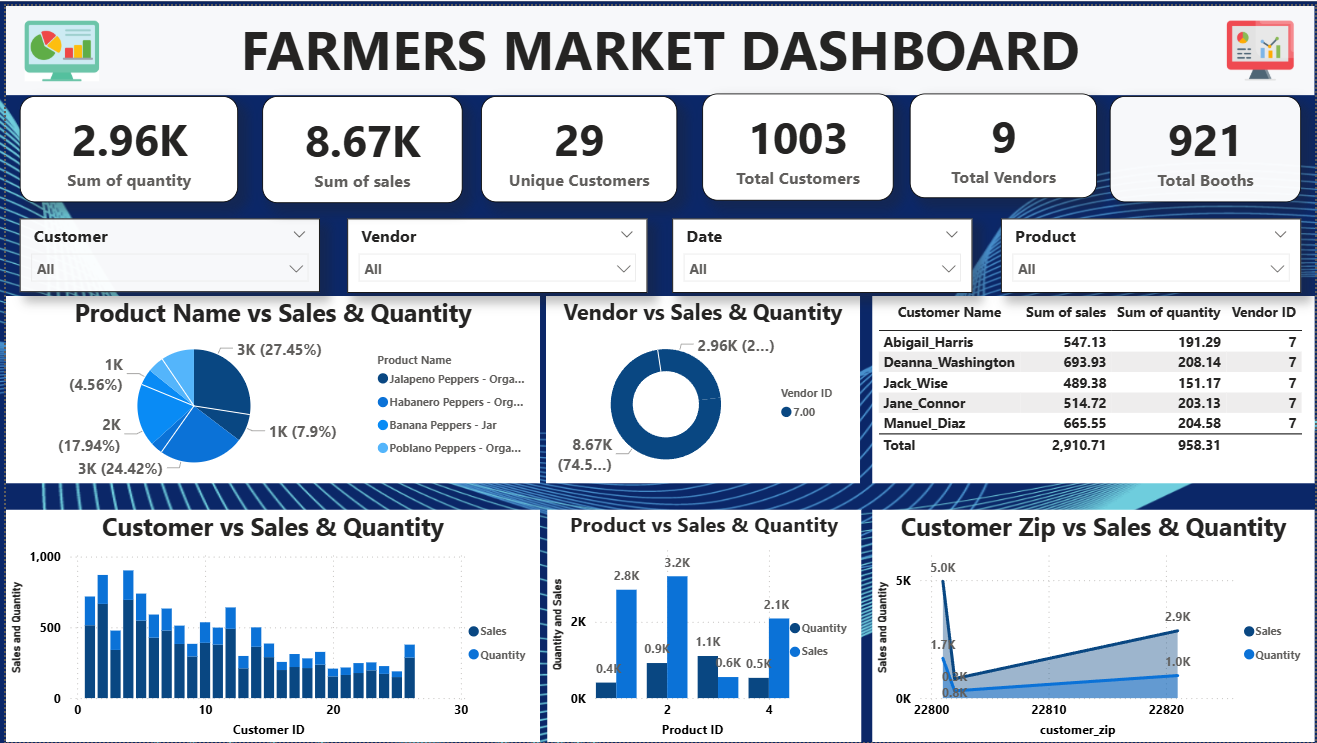

This screenshot's page, from the dashboard's own definition file:
{"tool":"powerbi","page":{"name":"Quantity & Sales Wise Analysis","canvas":[1280,720],"ordinal":0},"visuals":[{"type":"columnChart","title":"Customer vs Sales & Quantity","fields":{"Category":["customer_purchases.customer_id"],"Y":["Sum(customer_purchases.sales)","Sum(customer_purchases.quantity)"]},"box":[0,492.8,522.1,227.4],"z":0},{"type":"clusteredColumnChart","title":"Product vs Sales & Quantity","fields":{"Category":["product.product_id"],"Y":["Sum(customer_purchases.quantity)","Sum(customer_purchases.sales)"]},"box":[529.5,492.8,306.9,227.4],"z":1000},{"type":"pieChart","title":"Product Name vs Sales & Quantity","fields":{"Category":["product.product_name"],"Y":["Sum(customer_purchases.sales)","Sum(customer_purchases.quantity)"]},"box":[0,283.7,522.1,183.4],"z":2000},{"type":"donutChart","title":"Vendor vs Sales & Quantity","fields":{"Y":["Sum(customer_purchases.sales)","Sum(customer_purchases.quantity)"],"Category":["customer_purchases.vendor_id"]},"box":[528.3,283.7,306.9,183.4],"z":3000},{"type":"textbox","box":[0,0,1280.3,87.6],"z":4000},{"type":"image","box":[13.5,0,82.2,87.6],"z":5000},{"type":"image","box":[1187.3,0,79.5,87.6],"z":6000},{"type":"card","fields":{"Values":["Sum(customer_purchases.quantity)"]},"box":[13.5,88,214,103.9],"z":7000},{"type":"card","fields":{"Values":["Count(customer_purchases.customer_id)"]},"box":[464.7,88,192,103.9],"z":8000},{"type":"card","fields":{"Values":["CountNonNull(customer_purchases.quantity)"]},"box":[681.1,85.6,187.1,105.2],"z":9000},{"type":"card","fields":{"Values":["CountNonNull(vendor.vendor_id)"]},"box":[884.1,85.6,183.4,102.7],"z":10000},{"type":"card","fields":{"Values":["CountNonNull(vendor_booth_assignments.booth_number)"]},"box":[1079.8,88,187.1,103.9],"z":11000},{"type":"tableEx","fields":{"Values":["customer.customer_full_name","Sum(customer_purchases.sales)","Sum(customer_purchases.quantity)","vendor.vendor_id"]},"box":[847.4,283.7,432.9,183.4],"z":12000},{"type":"areaChart","title":"Customer Zip vs Sales & Quantity","fields":{"Category":["customer.customer_zip"],"Y":["Sum(customer_purchases.sales)","Sum(customer_purchases.quantity)"]},"box":[847.4,492.8,432.9,227.4],"z":13000},{"type":"slicer","fields":{"Values":["customer_purchases.customer_id"]},"box":[13.5,207.9,293.5,72.1],"z":14000},{"type":"slicer","fields":{"Values":["customer_purchases.product_id"]},"box":[973.3,207.3,293.5,72.7],"z":15000},{"type":"slicer","fields":{"Values":["customer_purchases.market_date"]},"box":[651.6,207.3,293.5,72.7],"z":16000},{"type":"slicer","fields":{"Values":["customer_purchases.vendor_id"]},"box":[333.9,207.3,293.5,72.7],"z":17000},{"type":"card","fields":{"Values":["Sum(customer_purchases.sales)"]},"box":[250.7,88,195.7,105.2],"z":17001}]}

Visuals, with their boxes in screenshot pixels (x1, y1, x2, y2), scaled from the page's 1280x720 canvas onto the 1317x743 screenshot:
"Customer vs Sales & Quantity" columnChart: [0, 509, 537, 742]
"Product vs Sales & Quantity" clusteredColumnChart: [545, 509, 861, 742]
"Product Name vs Sales & Quantity" pieChart: [0, 293, 537, 482]
"Vendor vs Sales & Quantity" donutChart: [544, 293, 859, 482]
textbox: [0, 0, 1316, 90]
image: [14, 0, 98, 90]
image: [1222, 0, 1303, 90]
card - Sum(customer_purchases.quantity): [14, 91, 234, 198]
card - Count(customer_purchases.customer_id): [478, 91, 676, 198]
card - CountNonNull(customer_purchases.quantity): [701, 88, 893, 197]
card - CountNonNull(vendor.vendor_id): [910, 88, 1098, 194]
card - CountNonNull(vendor_booth_assignments.booth_number): [1111, 91, 1304, 198]
tableEx - customer.customer_full_name x Sum(customer_purchases.sales): [872, 293, 1316, 482]
"Customer Zip vs Sales & Quantity" areaChart: [872, 509, 1316, 742]
slicer - customer_purchases.customer_id: [14, 215, 316, 289]
slicer - customer_purchases.product_id: [1001, 214, 1303, 289]
slicer - customer_purchases.market_date: [670, 214, 972, 289]
slicer - customer_purchases.vendor_id: [344, 214, 646, 289]
card - Sum(customer_purchases.sales): [258, 91, 459, 199]
